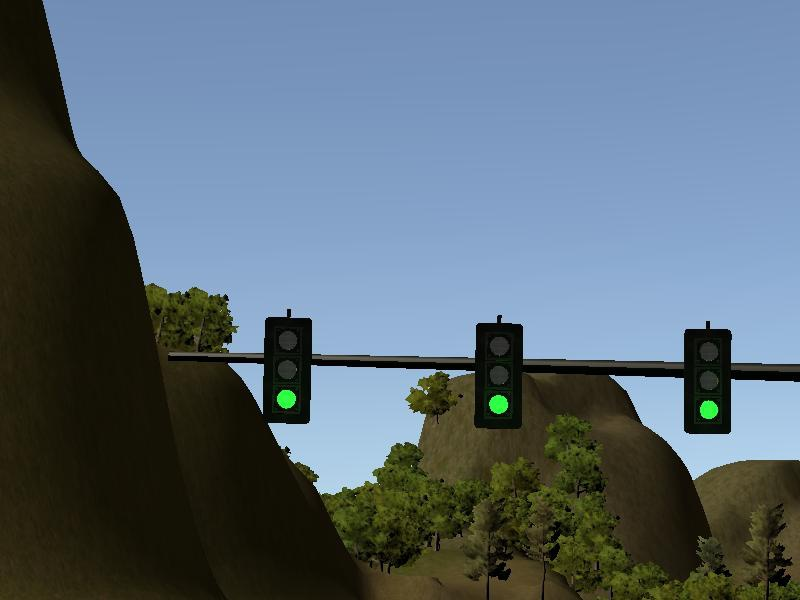Green: (263, 317, 311, 424), (476, 323, 521, 427), (685, 329, 729, 434)
